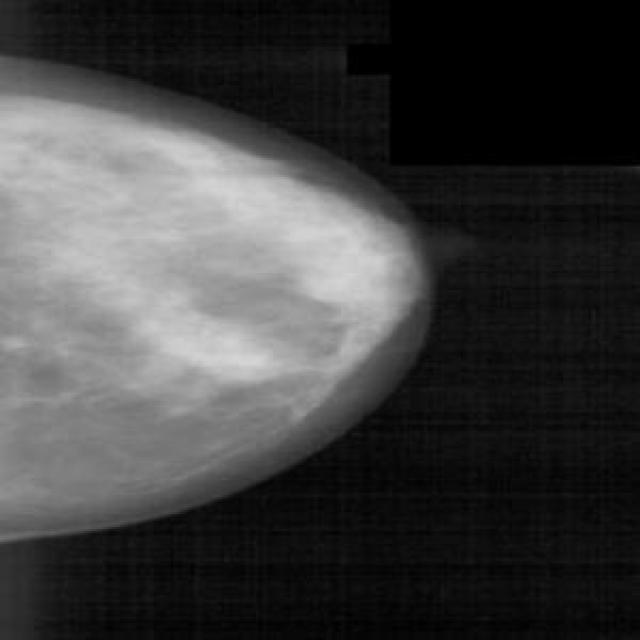tumor: (282, 172, 418, 351), (143, 292, 269, 408)
